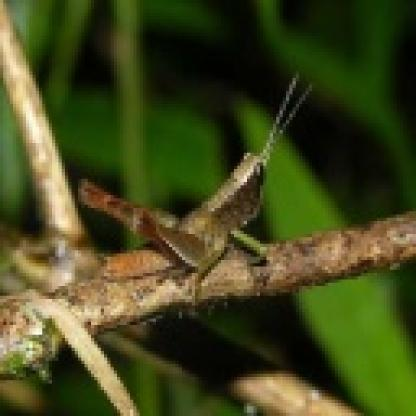grasshopper: (70, 110, 308, 291)
